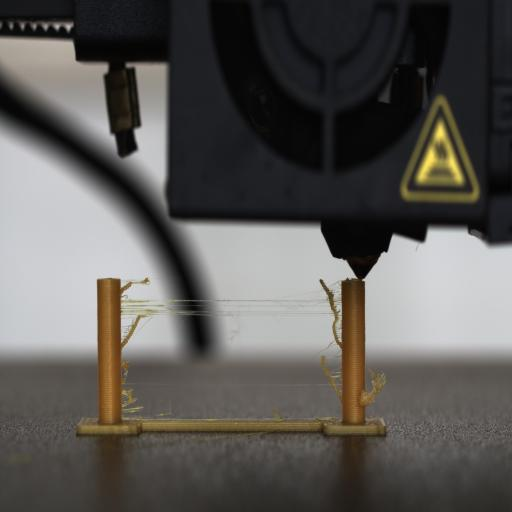stringing: (120, 281, 342, 355)
